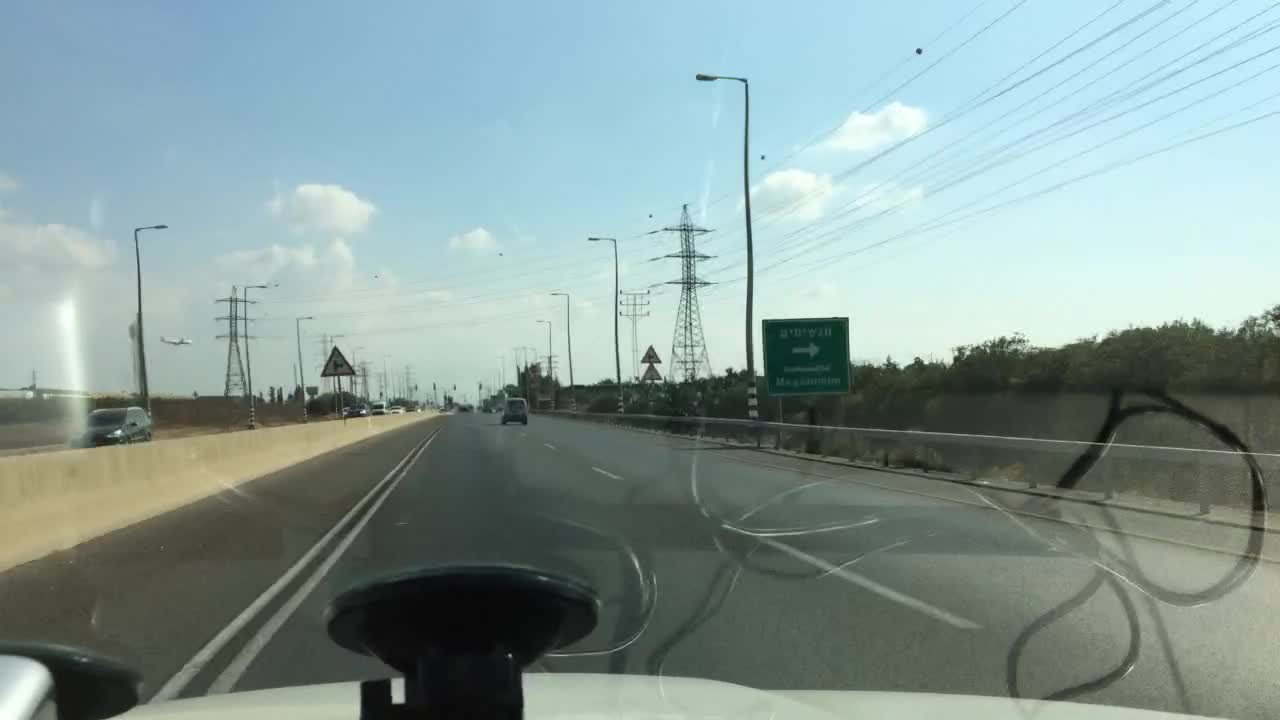car: (65, 406, 150, 444), (496, 397, 530, 421), (345, 401, 369, 414), (456, 402, 472, 413), (390, 404, 406, 414), (480, 403, 493, 411)
traffic sign: (762, 315, 851, 395), (320, 342, 354, 378), (638, 344, 664, 365), (641, 366, 667, 383)
truck: (371, 401, 388, 415)
